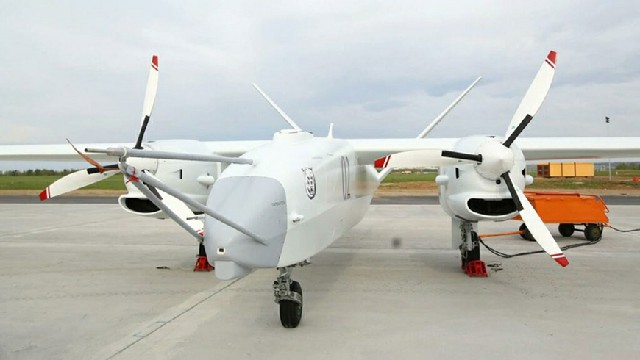maybay_khongnguoilai: (18, 55, 634, 312)
